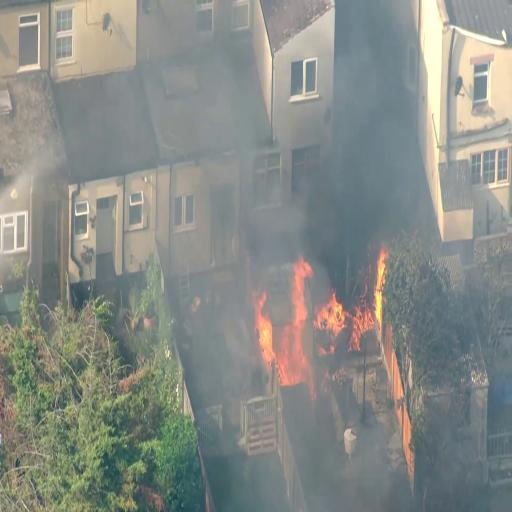fire: (246, 242, 386, 375)
